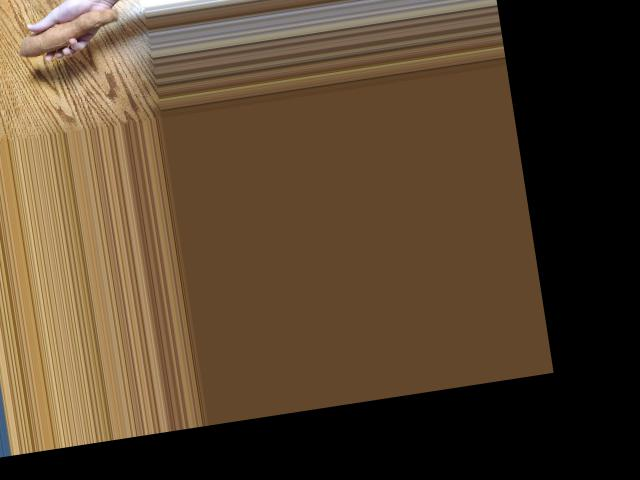sweet_potato: (12, 6, 120, 59)
